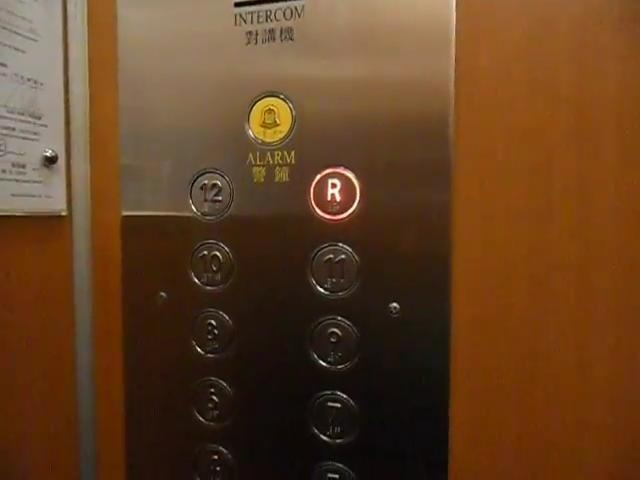10: (187, 239, 234, 289)
11: (307, 242, 361, 297)
12: (187, 167, 234, 219)
7: (307, 388, 361, 444)
8: (189, 307, 236, 359)
9: (308, 316, 360, 370)
R: (306, 166, 361, 222)
alarm: (244, 89, 296, 149)
blur: (187, 375, 235, 428)
